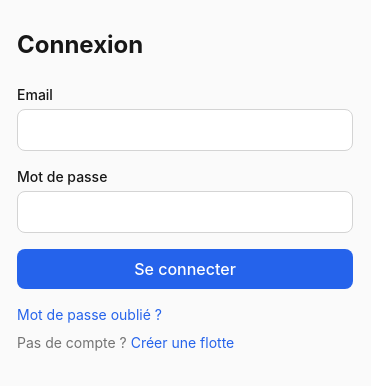
LoginPage › shows an error when login fails
Type "k@acme.dz" into the field labelled "Email" at (185, 130), box [17,109,353,151]
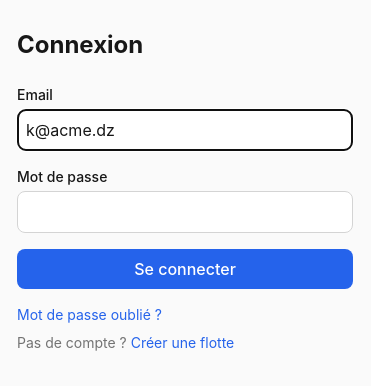
Type "wrongpass" into the password field labelled "Mot de passe" at (185, 212), box [17,191,353,233]
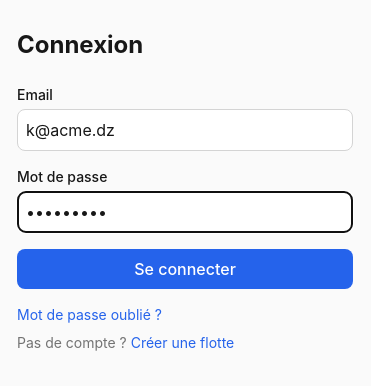
Click the button "Se connecter" at (185, 269), box [17,249,353,289]
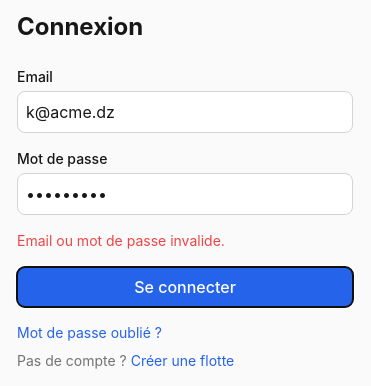
Now the message shows "invalide", box [17,232,225,249]
